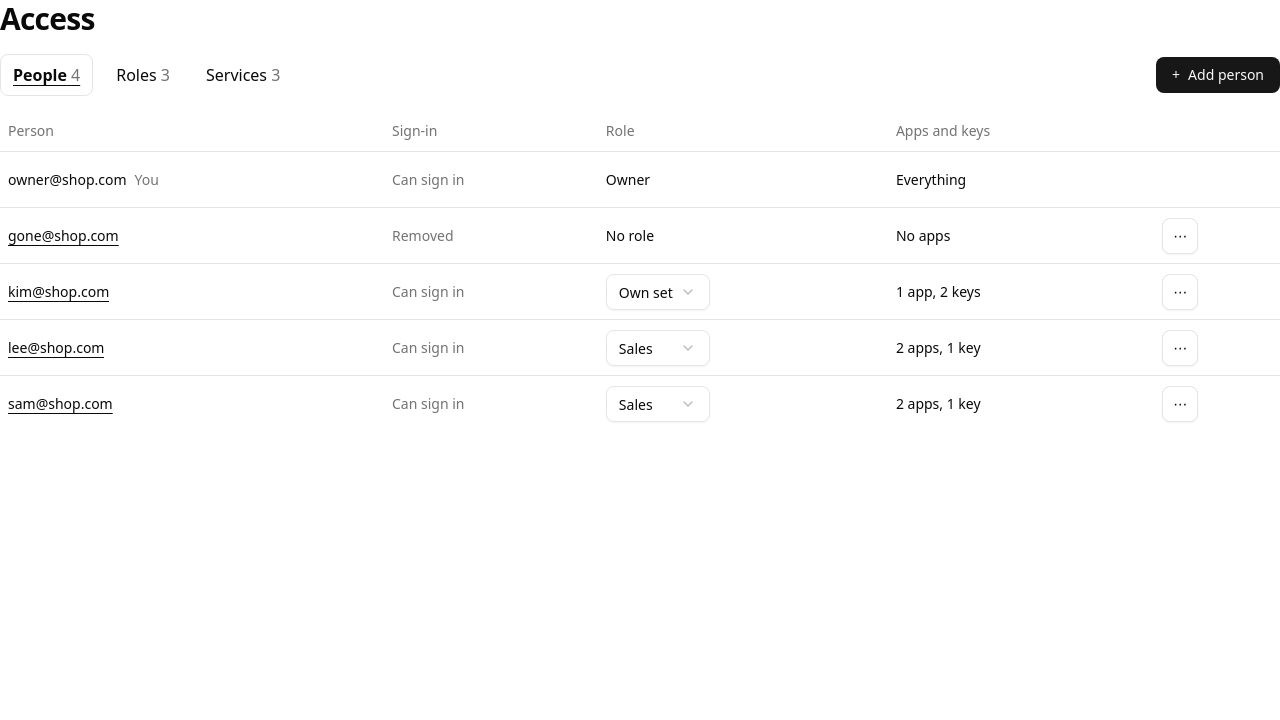
Scenario: opens the popup when a role picked in the list gives the project, and not for a role without it
Select "Support" in the dropdown named "Role for kim@shop.com": x=658, y=292 top-left (606, 274), bottom-right (710, 310)
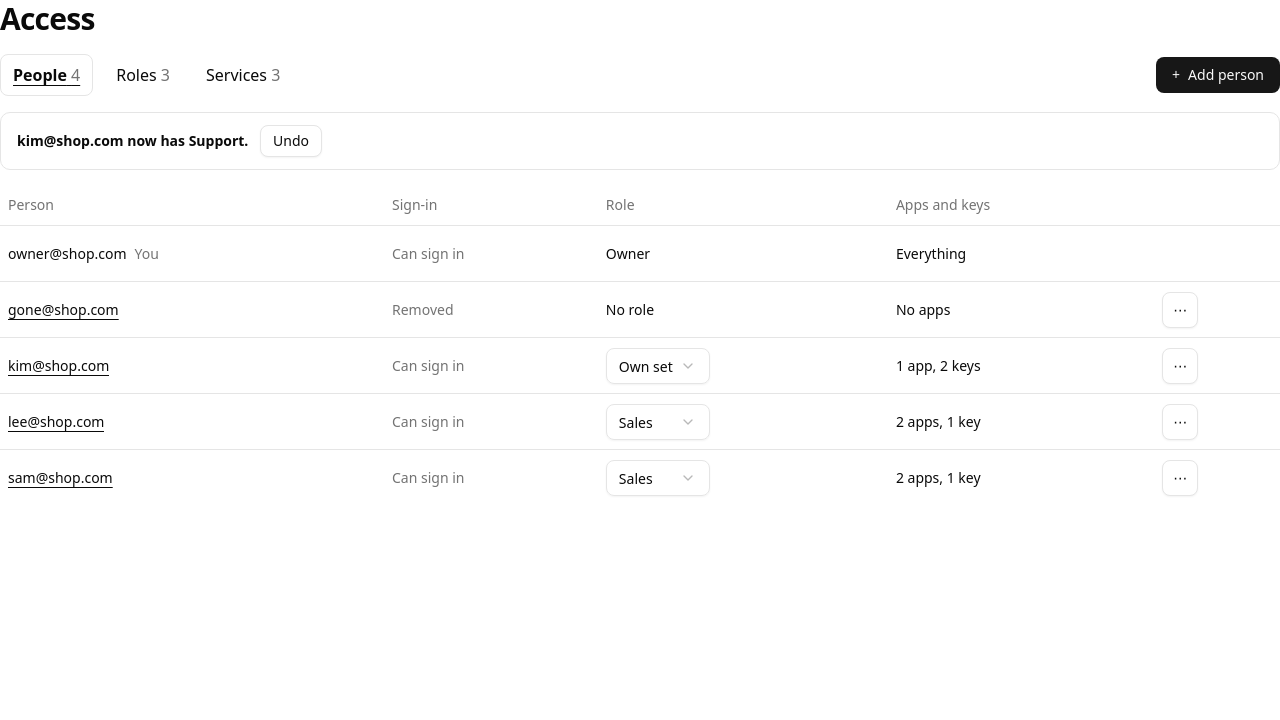
Now the text "kim@shop.com now has Support." is shown, box top-left (17, 130), bottom-right (248, 150)
Select "Office" in the dropdown named "Role for lee@shop.com": x=658, y=422 top-left (606, 404), bottom-right (710, 440)
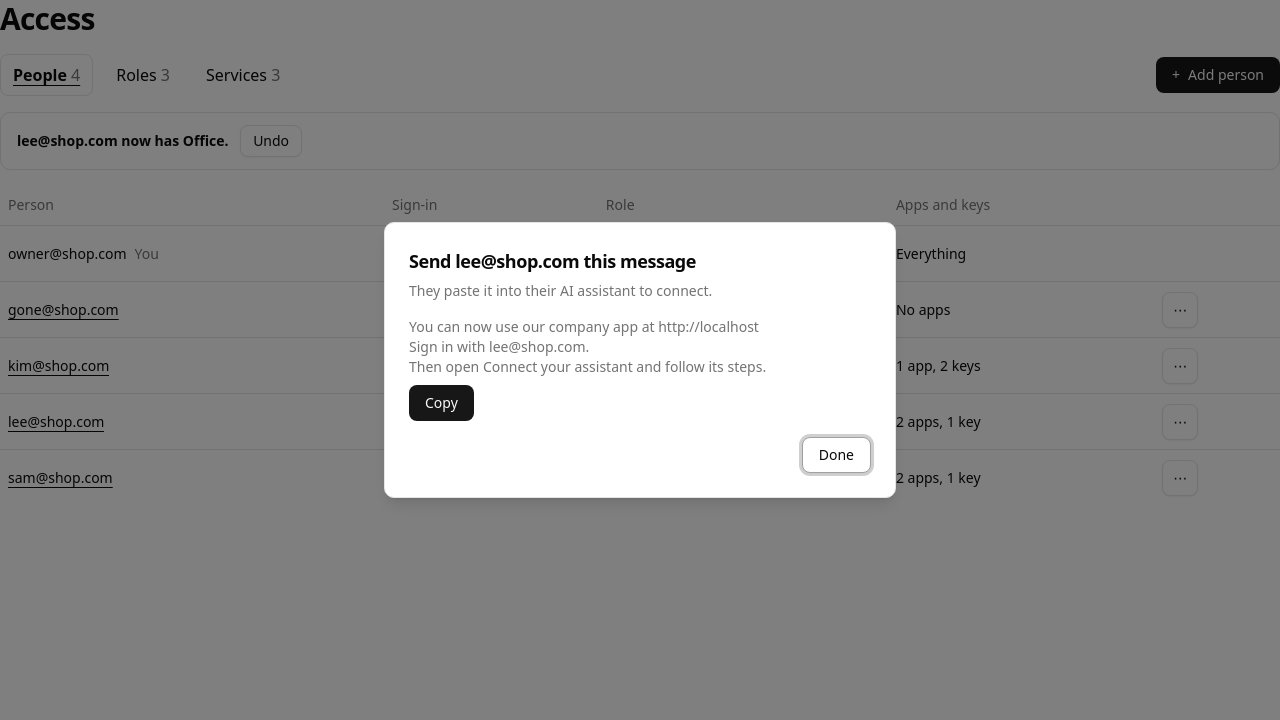
Now the text "lee@shop.com now has Office." is shown, box top-left (17, 130), bottom-right (228, 150)
